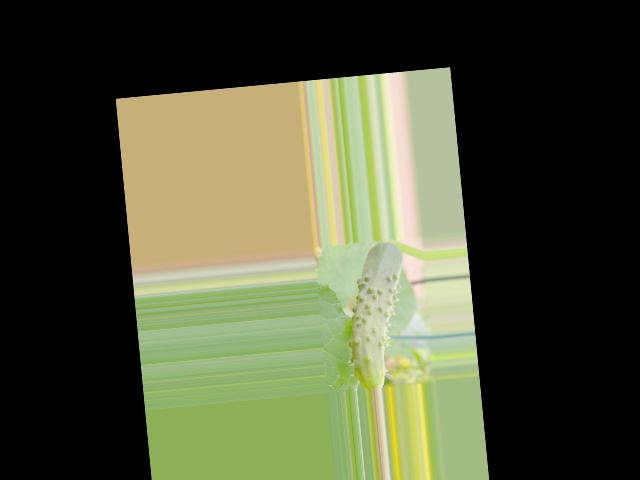cucumber: (339, 240, 414, 390)
